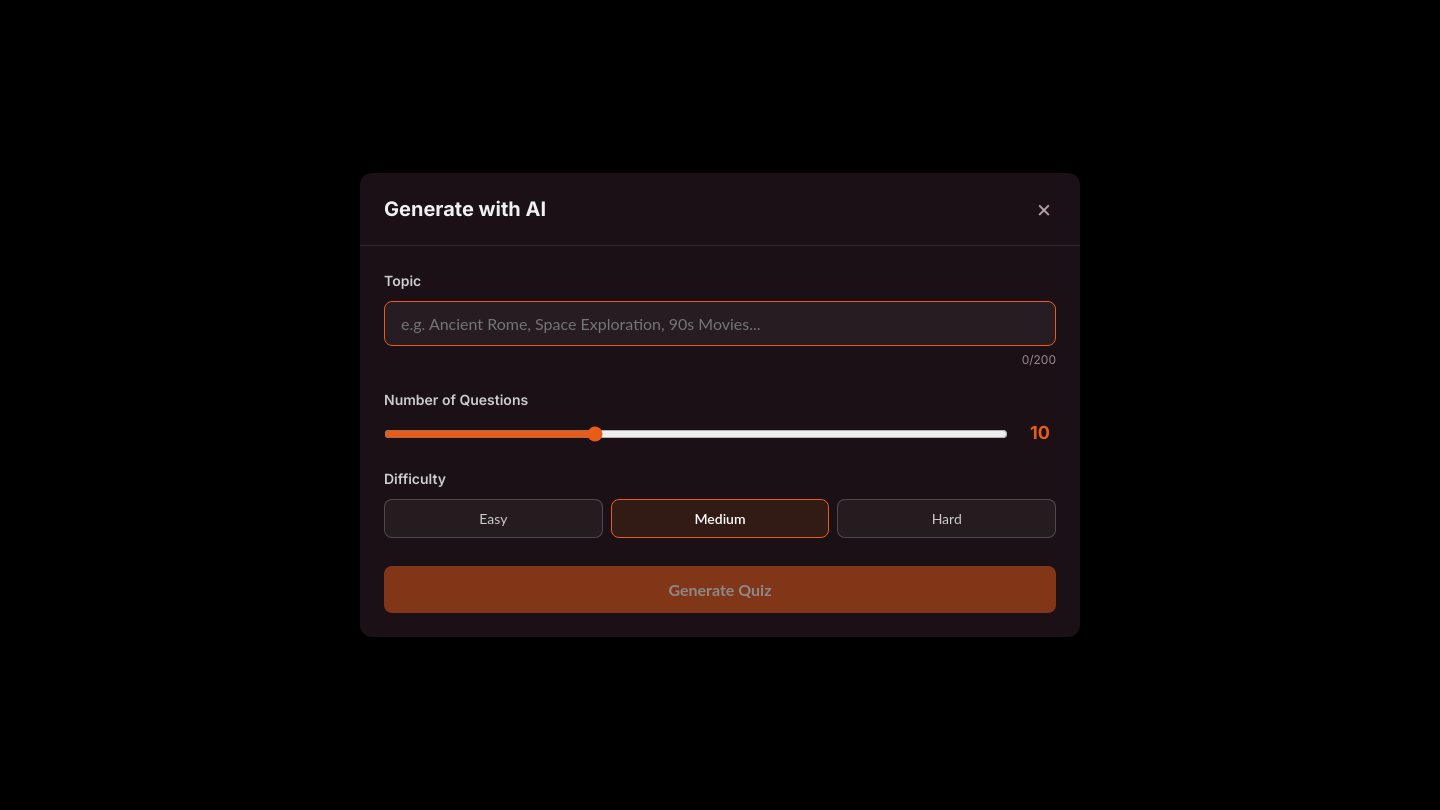
Test case: AIGenerateModal › deletes a question from preview
Type "Space" into the field labelled "Topic".
click(720, 323); type("Space")  # box [384,301,1056,346]
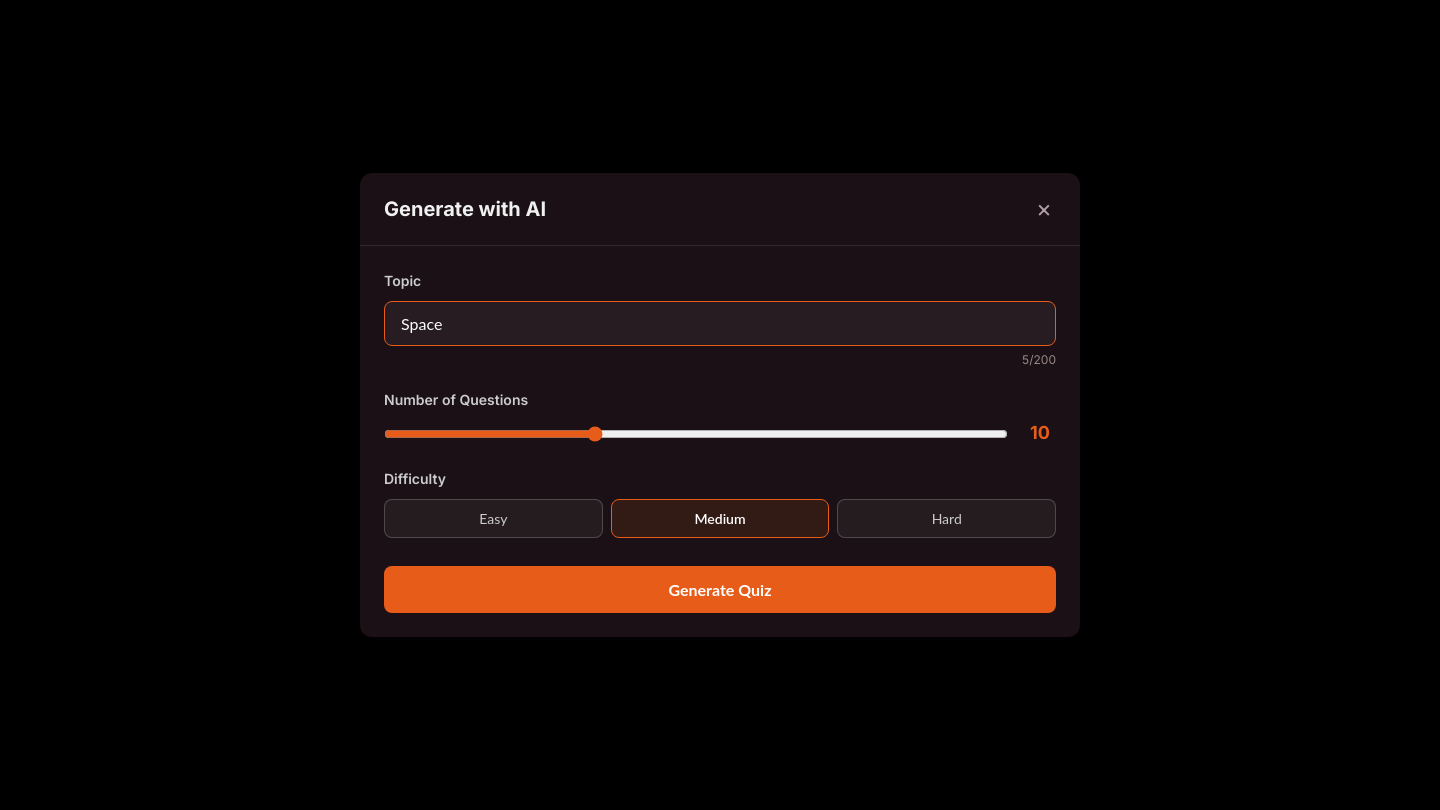
Click the button "Generate Quiz".
click(720, 589)  # box [384,566,1056,613]
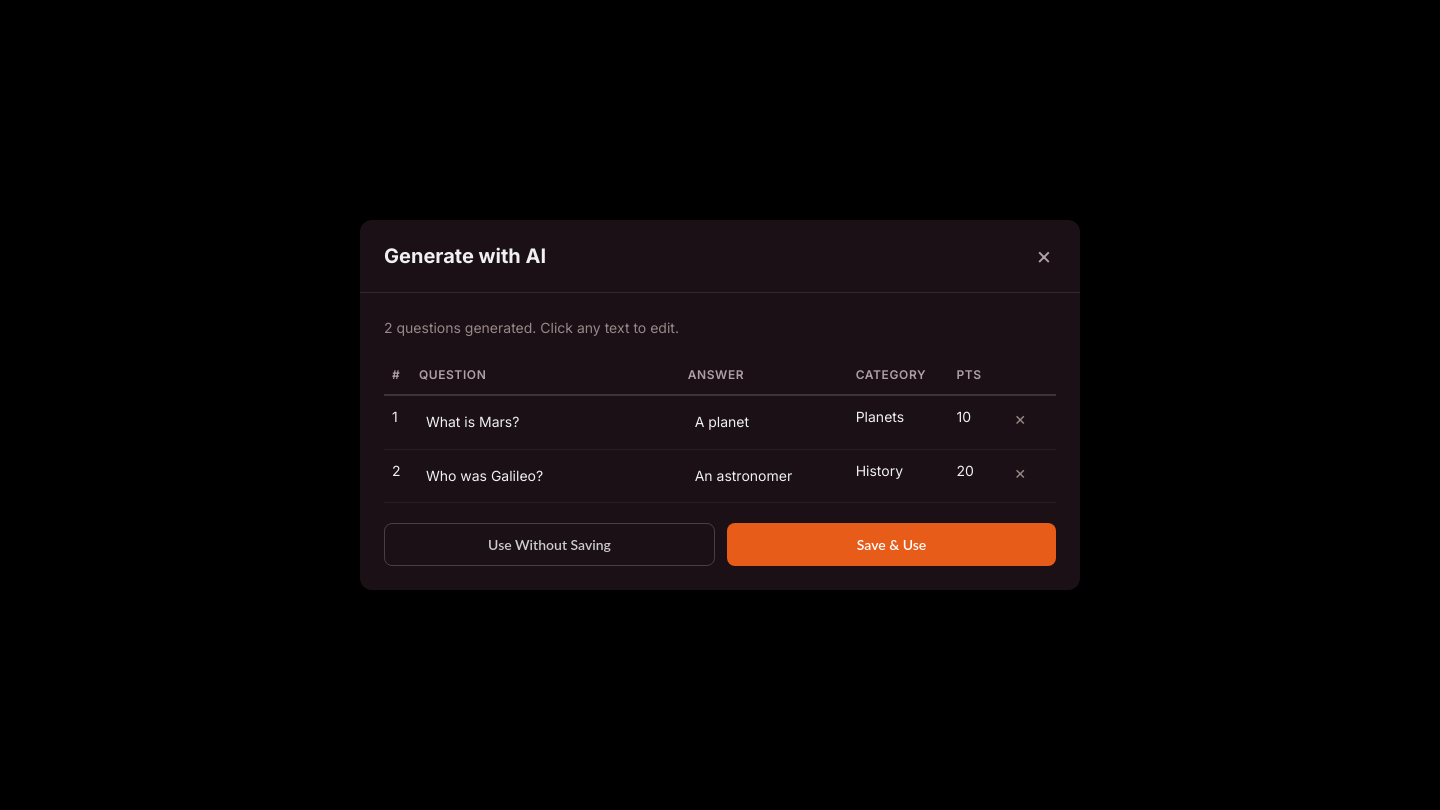
Now the text box "What is Mars?" is shown, box [426,413,519,430]
// Delete first question
Click the button titled "Remove question" in the row of "What is Mars?".
click(1020, 419)  # box [1010,406,1030,432]
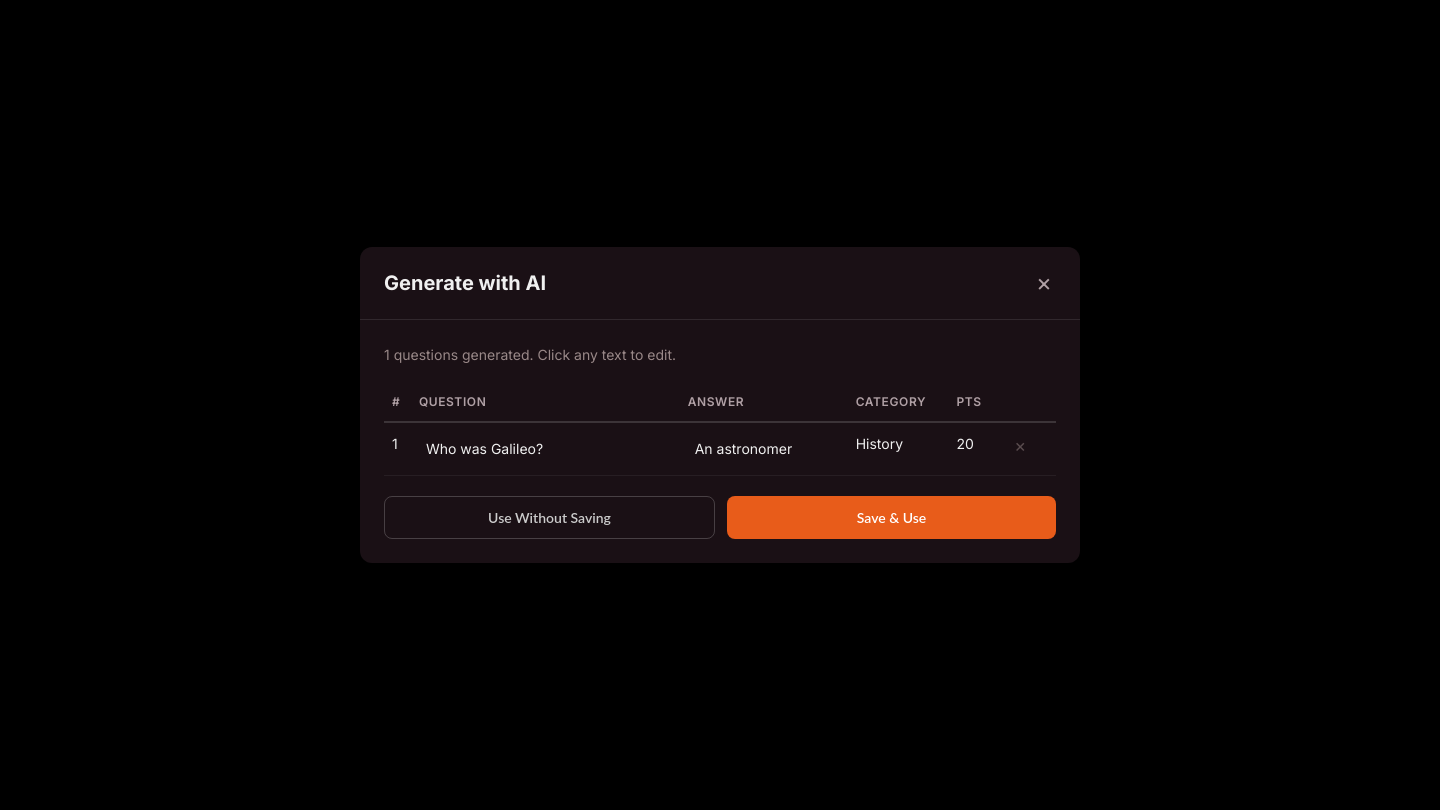
Now the text box "What is Mars?" is gone
Now the text box "Who was Galileo?" is shown, box [426,440,543,457]
Now the text "1 questions generated. Click any text to edit." is shown, box [384,346,676,362]
